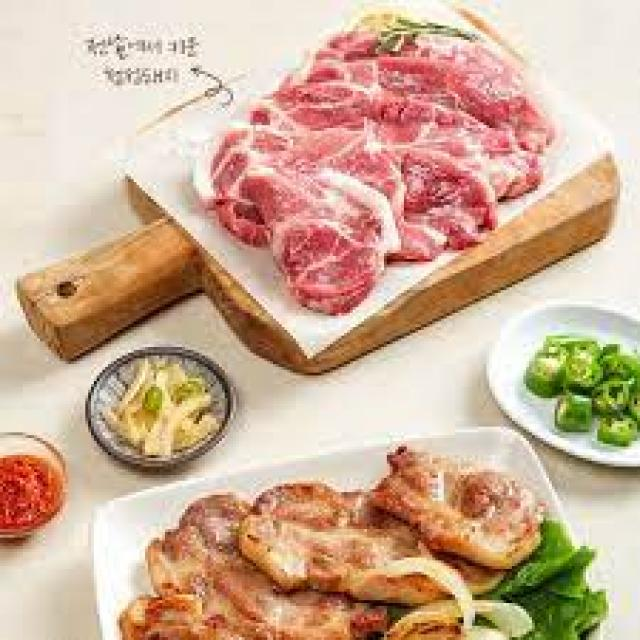pork: (239, 168, 401, 314)
